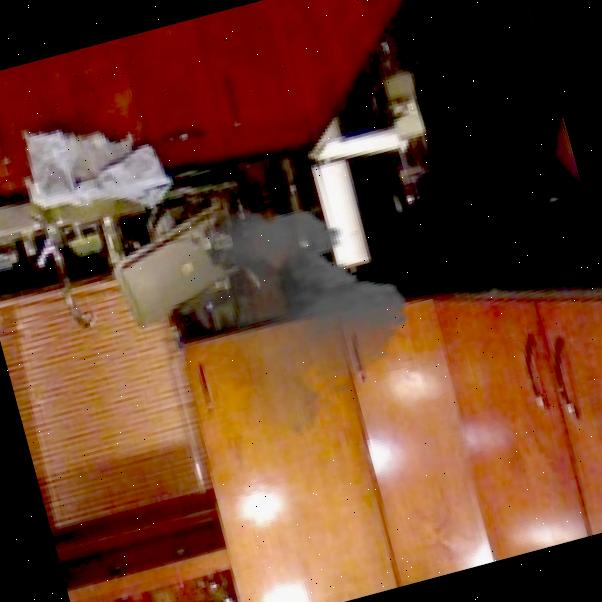smoke: (111, 164, 445, 474)
